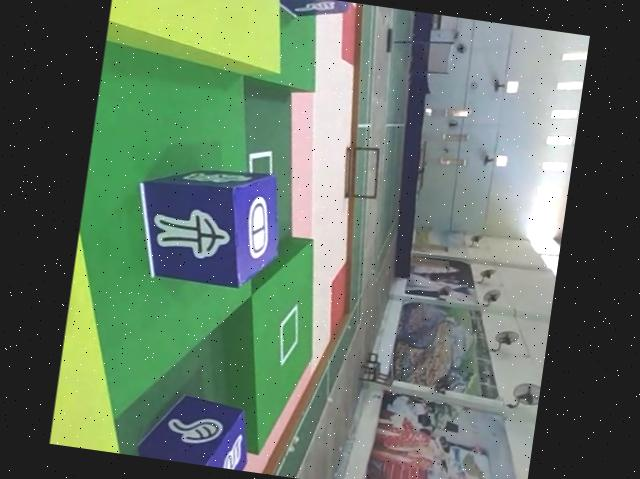R2 Fake Blue: (126, 154, 288, 293), (135, 387, 255, 471), (266, 0, 350, 22)
